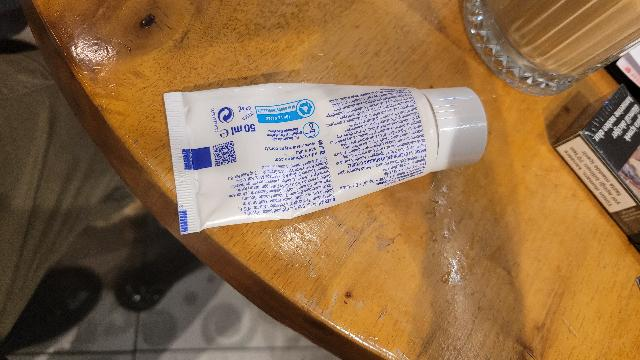Plastik: (157, 67, 507, 235)
